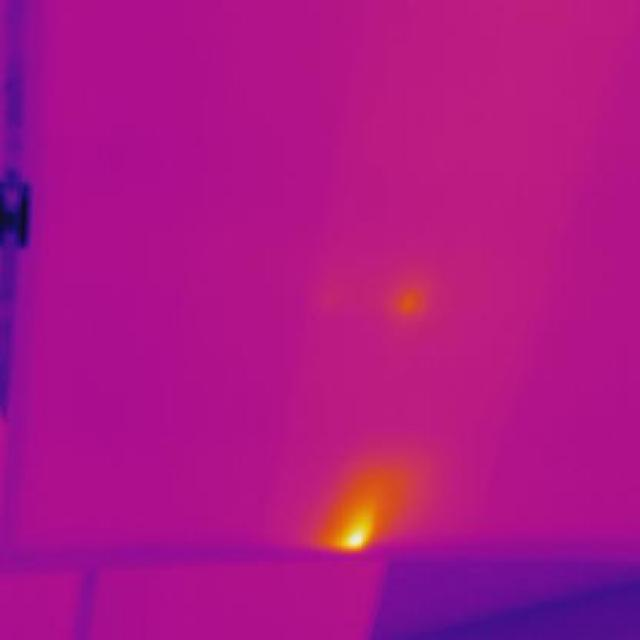hotspot: (321, 487, 392, 555)
